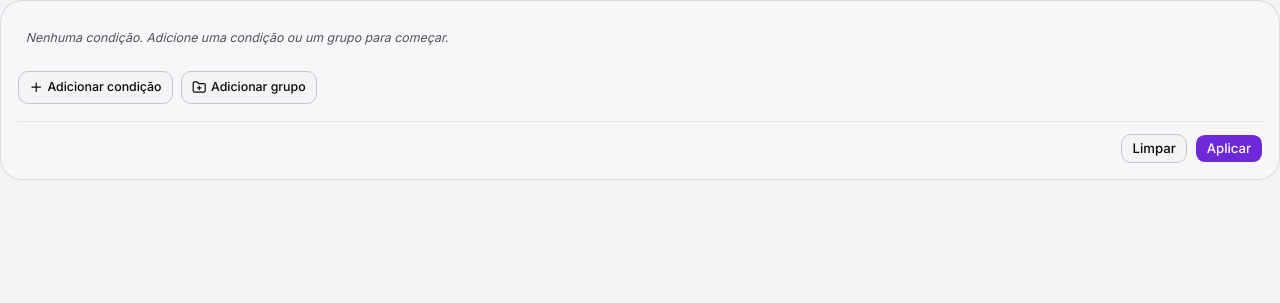
Test: ConditionalFilters v0.32 › Adicionar condição adiciona item à lista
Click the button "Adicionar condição".
click(95, 88)  # box [18,71,173,104]
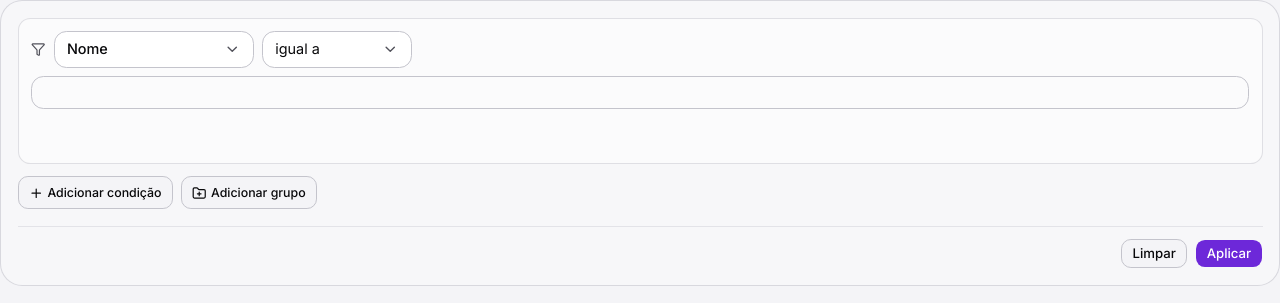
Expected: the text "Nenhuma condição" is gone
